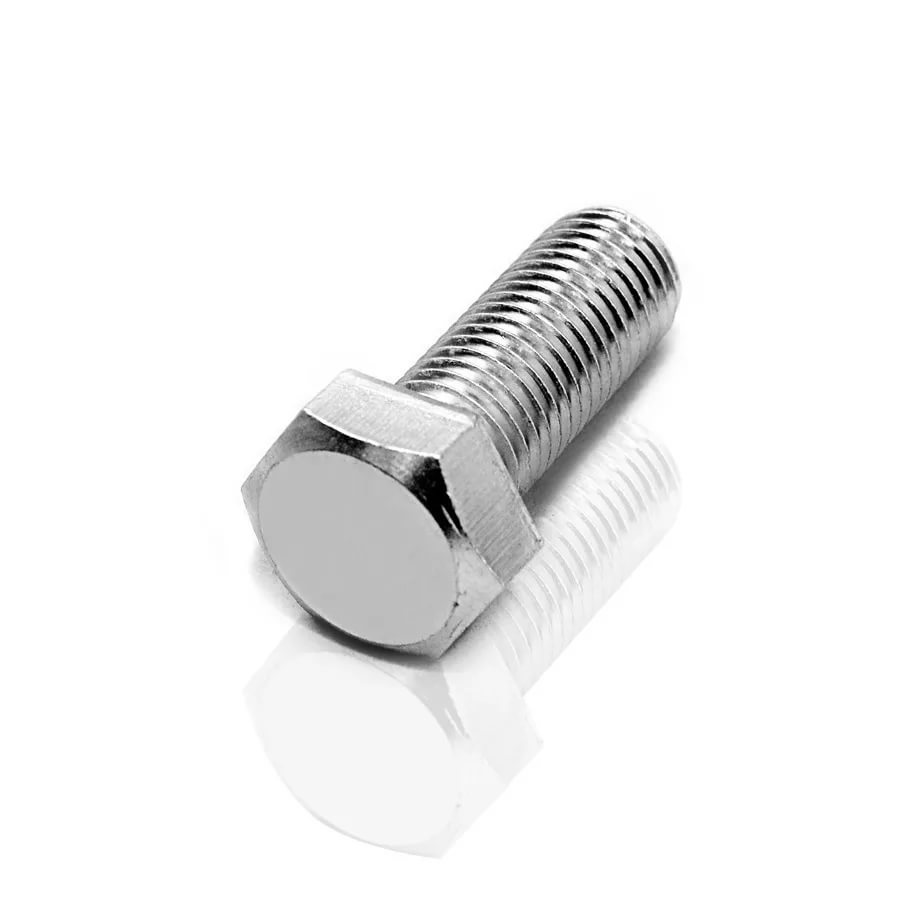screw: (241, 208, 683, 660)
